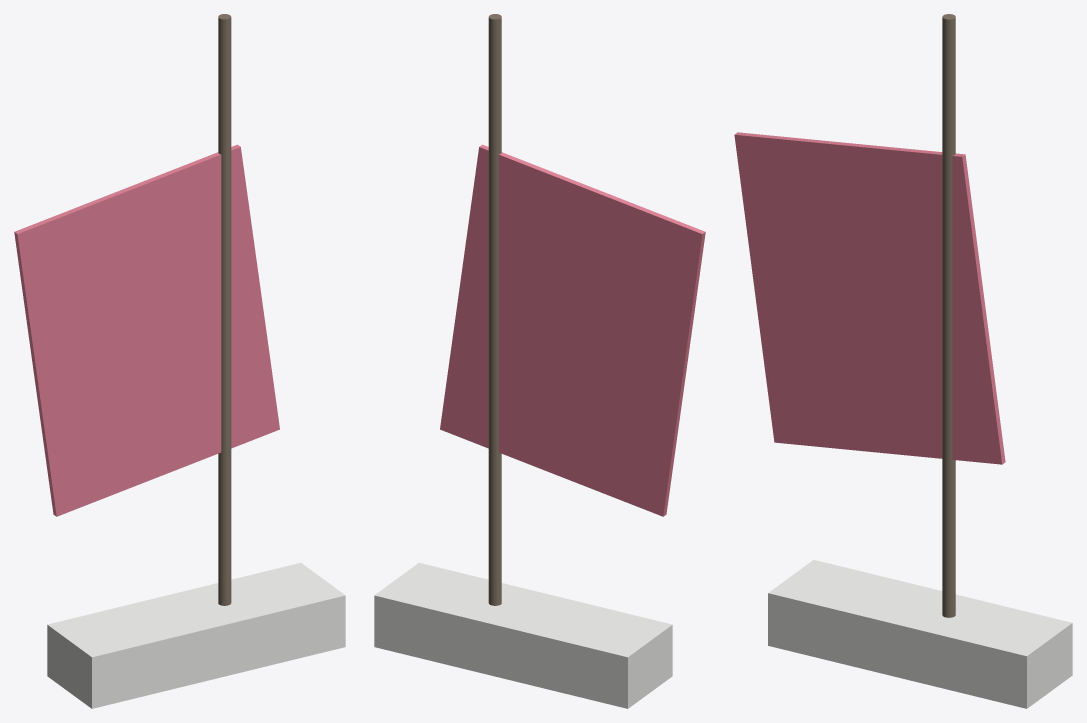
Rendered from sail_billboard_1.glb.
The picture shows the model from 3 angles, left to right: view 1: azimuth 30°, elevation 25°; view 2: azimuth 150°, elevation 25°; view 3: azimuth 330°, elevation 25°; orthographic projection. The views are drawn at different scales.
Visible parts, largest first — view 1: sail_cloth, sail_hull, sail_mast; view 2: sail_cloth, sail_hull, sail_mast; view 3: sail_cloth, sail_hull, sail_mast.
Part boxes in pixels (x1=…): sail_cloth: x1=14, y1=144, x2=279, y2=516; sail_hull: x1=47, y1=562, x2=345, y2=708; sail_mast: x1=218, y1=14, x2=231, y2=605; sail_cloth: x1=440, y1=144, x2=705, y2=516; sail_hull: x1=374, y1=562, x2=672, y2=708; sail_mast: x1=488, y1=14, x2=501, y2=605; sail_cloth: x1=734, y1=132, x2=1005, y2=464; sail_hull: x1=768, y1=560, x2=1072, y2=708; sail_mast: x1=942, y1=14, x2=955, y2=617.
Bounding box in the file's own units: 2.18 × 4.32 × 0.55.
